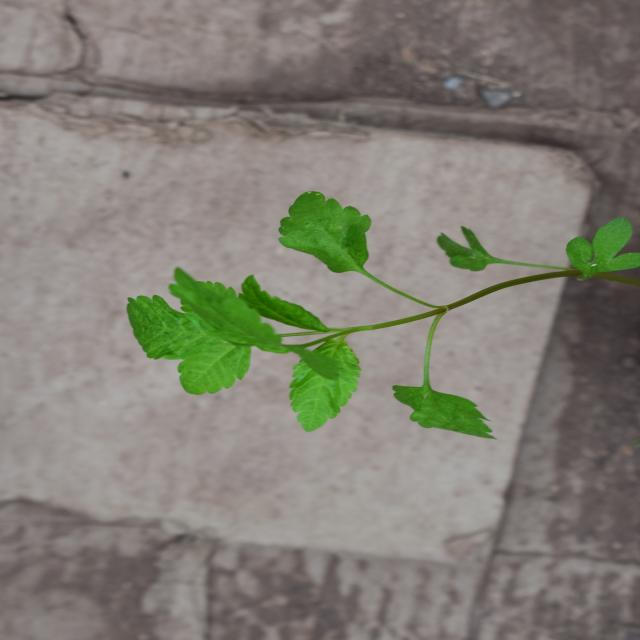Bidens pilosa: (186, 106, 444, 533)
